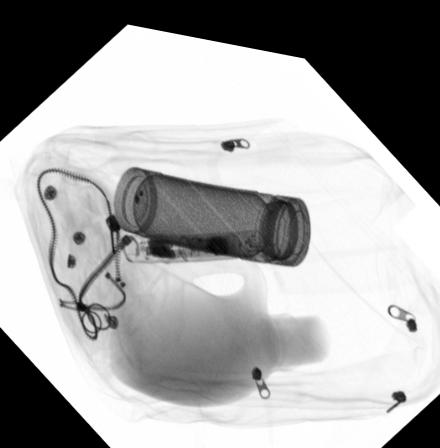Baton: (117, 215, 268, 257)
